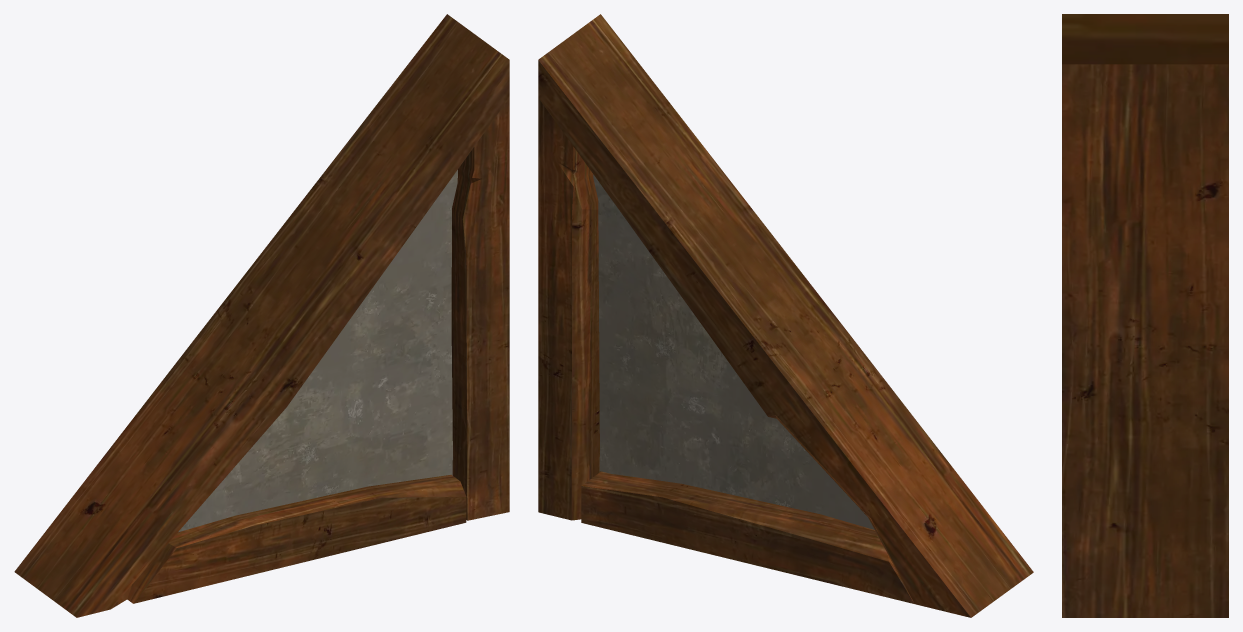
3 renders of one model, left to right at view 1: azimuth 30°, elevation 25°; view 2: azimuth 150°, elevation 25°; view 3: azimuth 270°, elevation 25°, orthographic. The views are drawn at different scales.
Visible parts, largest first — view 1: SM_BB_T2_Wall_Slanted_Med_LOD0; view 2: SM_BB_T2_Wall_Slanted_Med_LOD0; view 3: SM_BB_T2_Wall_Slanted_Med_LOD0.
Boxes of the visible parts, x1,y1,x2,y2 form: SM_BB_T2_Wall_Slanted_Med_LOD0: (14, 14, 509, 617); SM_BB_T2_Wall_Slanted_Med_LOD0: (538, 14, 1033, 617); SM_BB_T2_Wall_Slanted_Med_LOD0: (1062, 14, 1228, 617).
Size of the model in its own units: 1.5 by 1.5 by 0.375.
2 materials, 2 textured.
